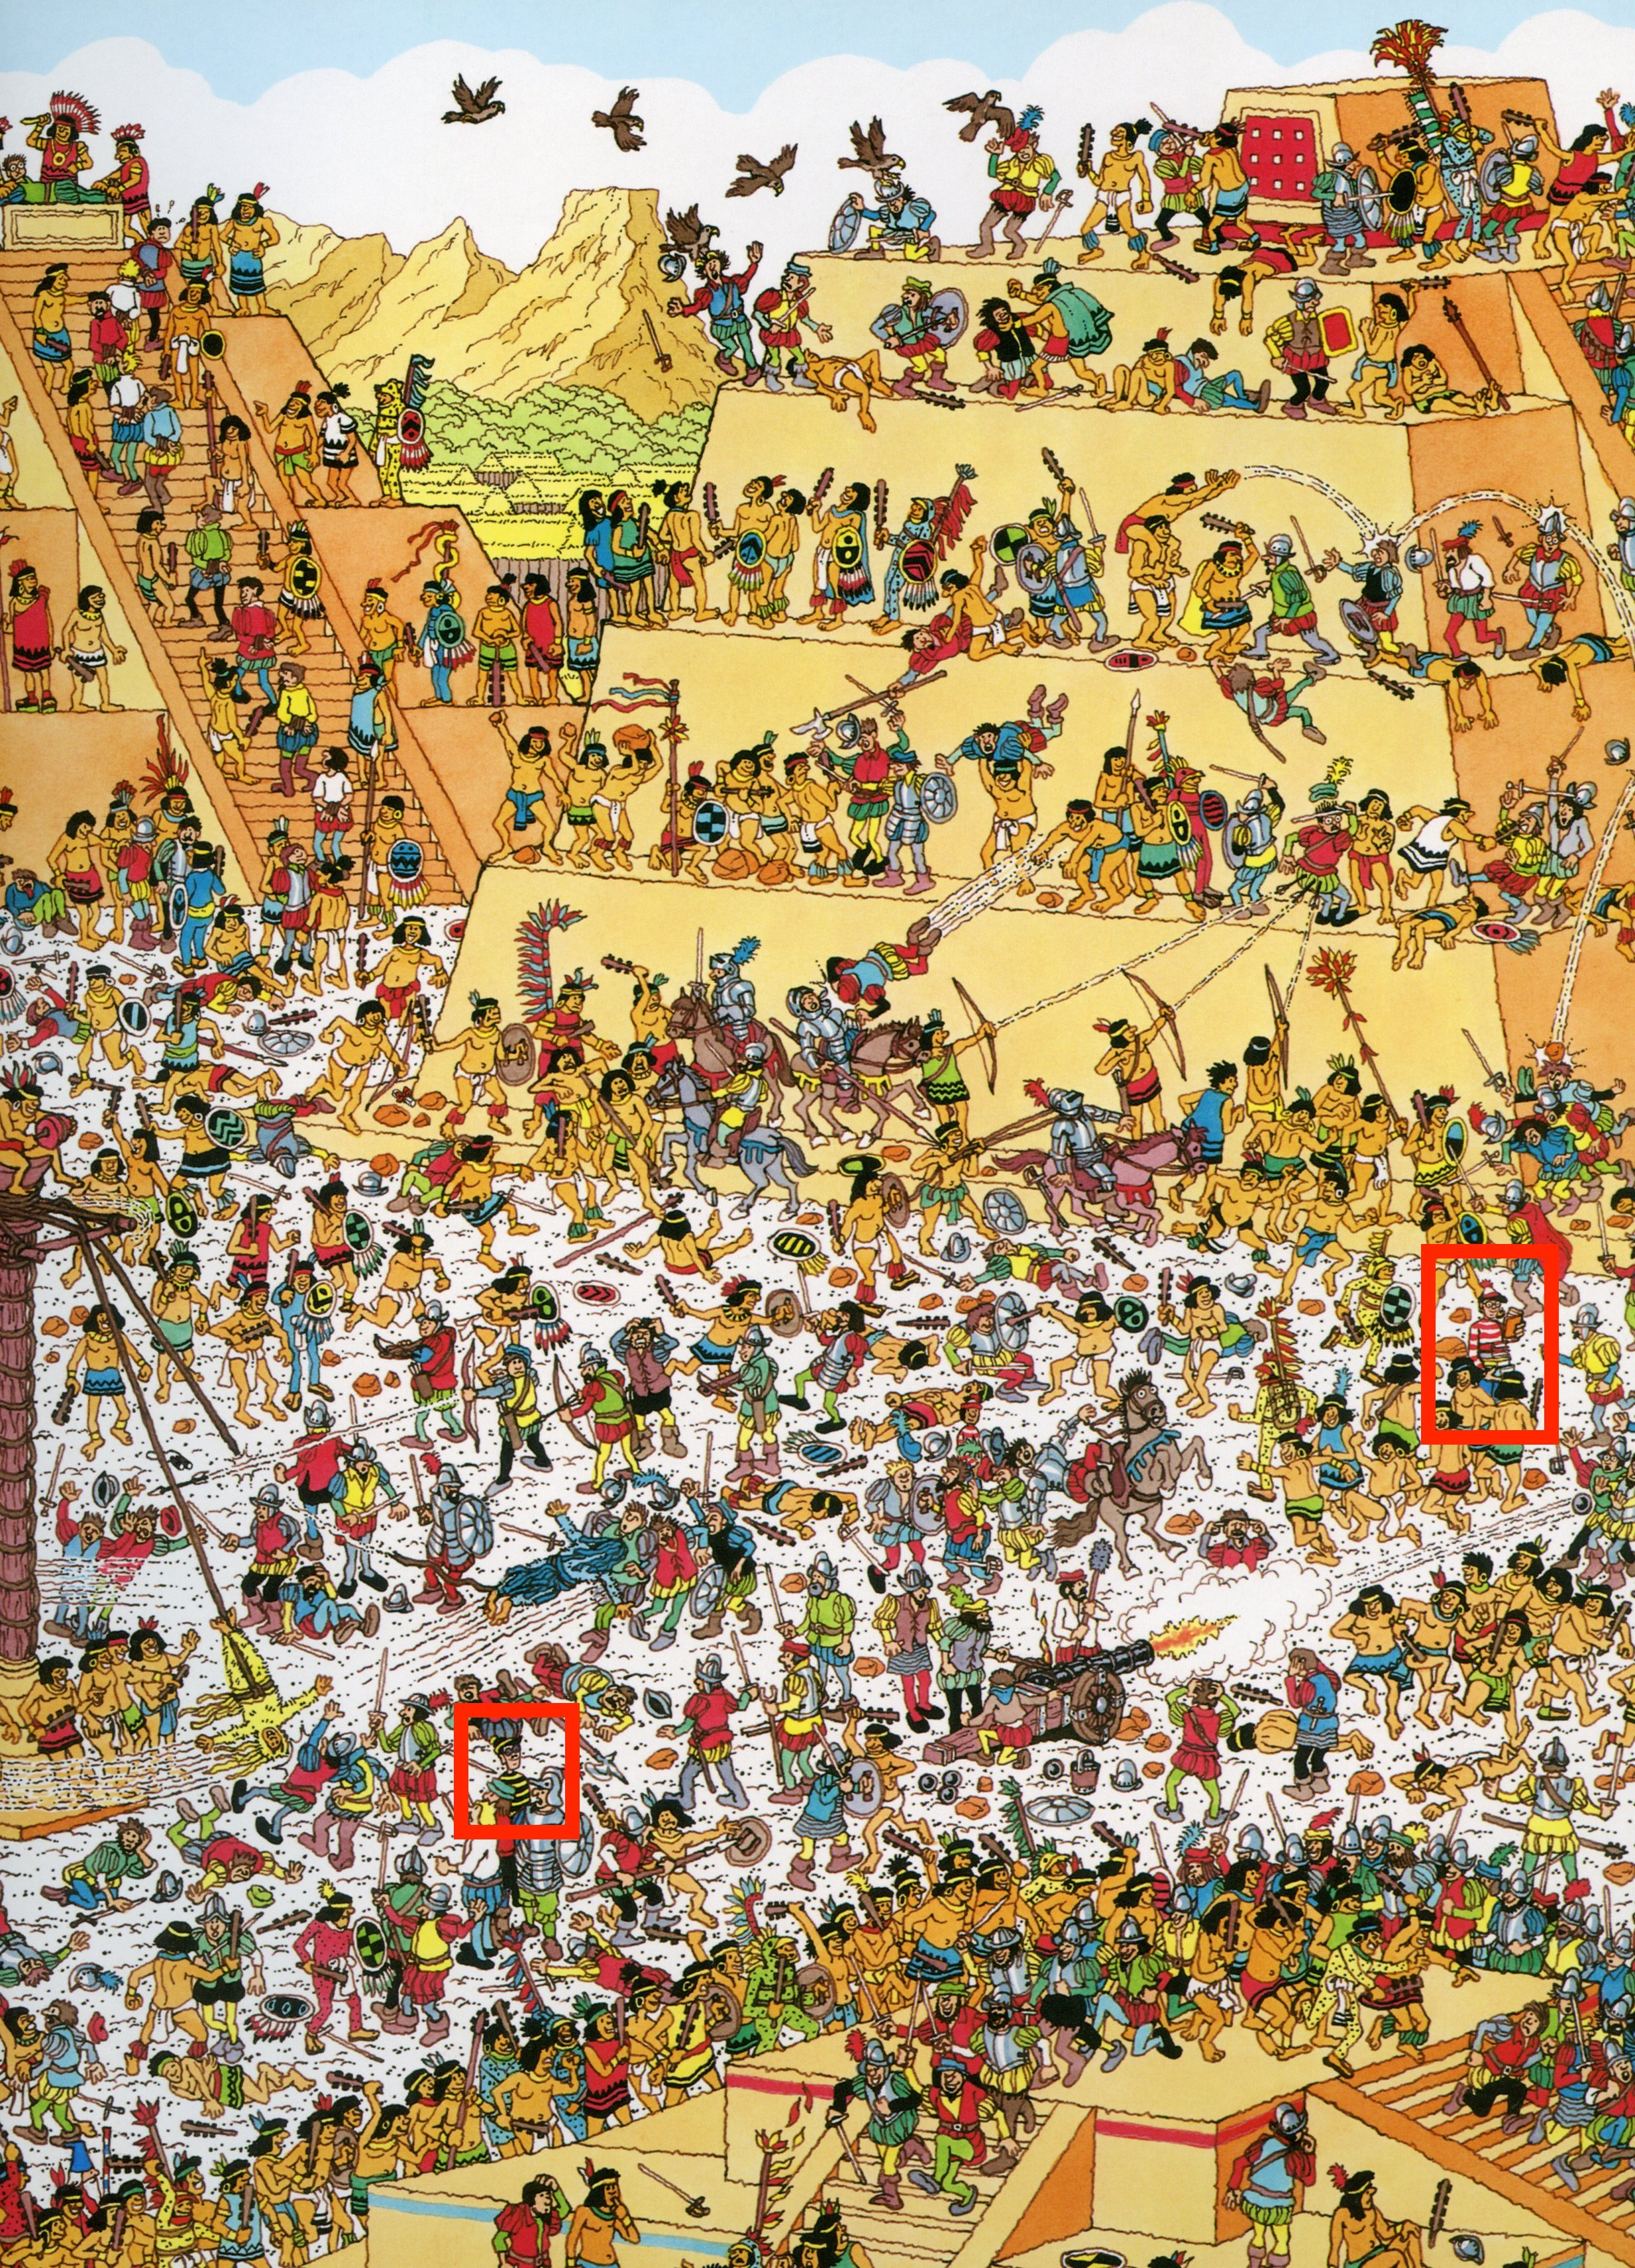odlaw: (453, 1708, 566, 1833)
waldo: (1434, 1252, 1550, 1454)
